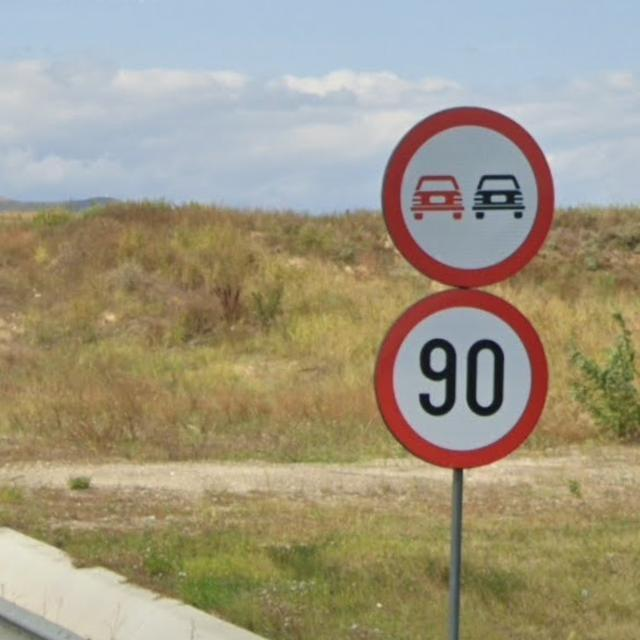forb_overtake: (380, 105, 559, 289)
